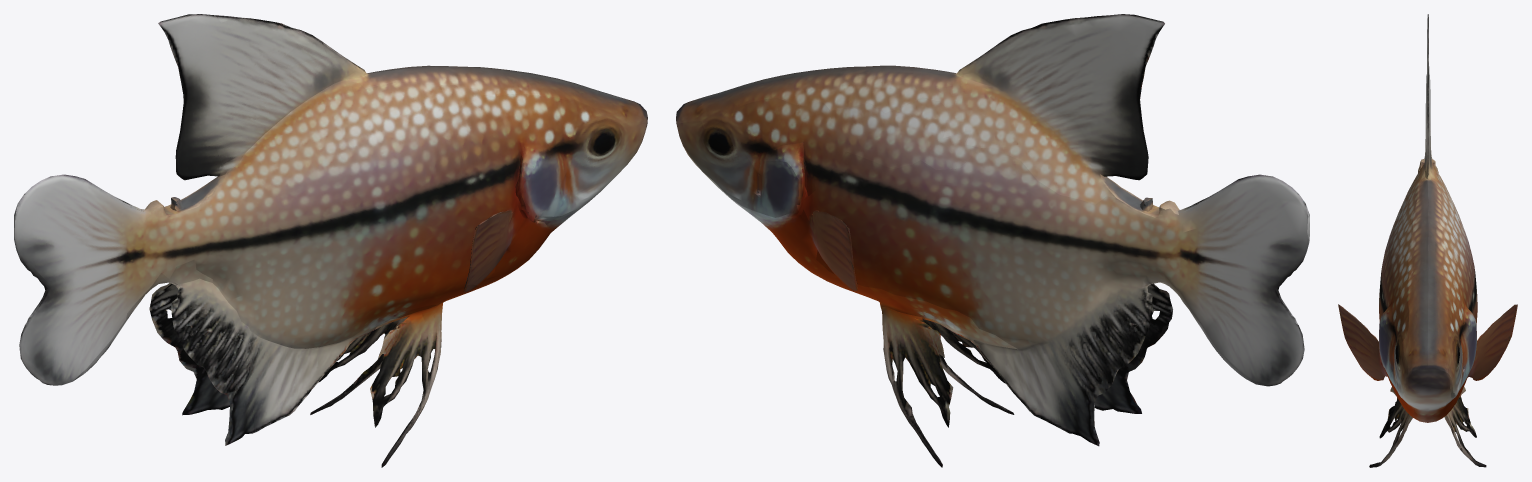
The model's file is pearl-gourami.glb.
3 renders of one model, left to right at view 1: azimuth 30°, elevation 25°; view 2: azimuth 150°, elevation 25°; view 3: azimuth 270°, elevation 25°, orthographic. The views are drawn at different scales.
Parts seen in each view (by area): view 1: geometry_0; view 2: geometry_0; view 3: geometry_0.
Boxes of the visible parts, x1,y1,x2,y2 form: geometry_0: (14, 14, 647, 467); geometry_0: (676, 14, 1309, 467); geometry_0: (1338, 14, 1517, 467).
Bounding box in the file's own units: 1 × 0.7079 × 0.3041.
Materials: 1 (1 with a texture image).
